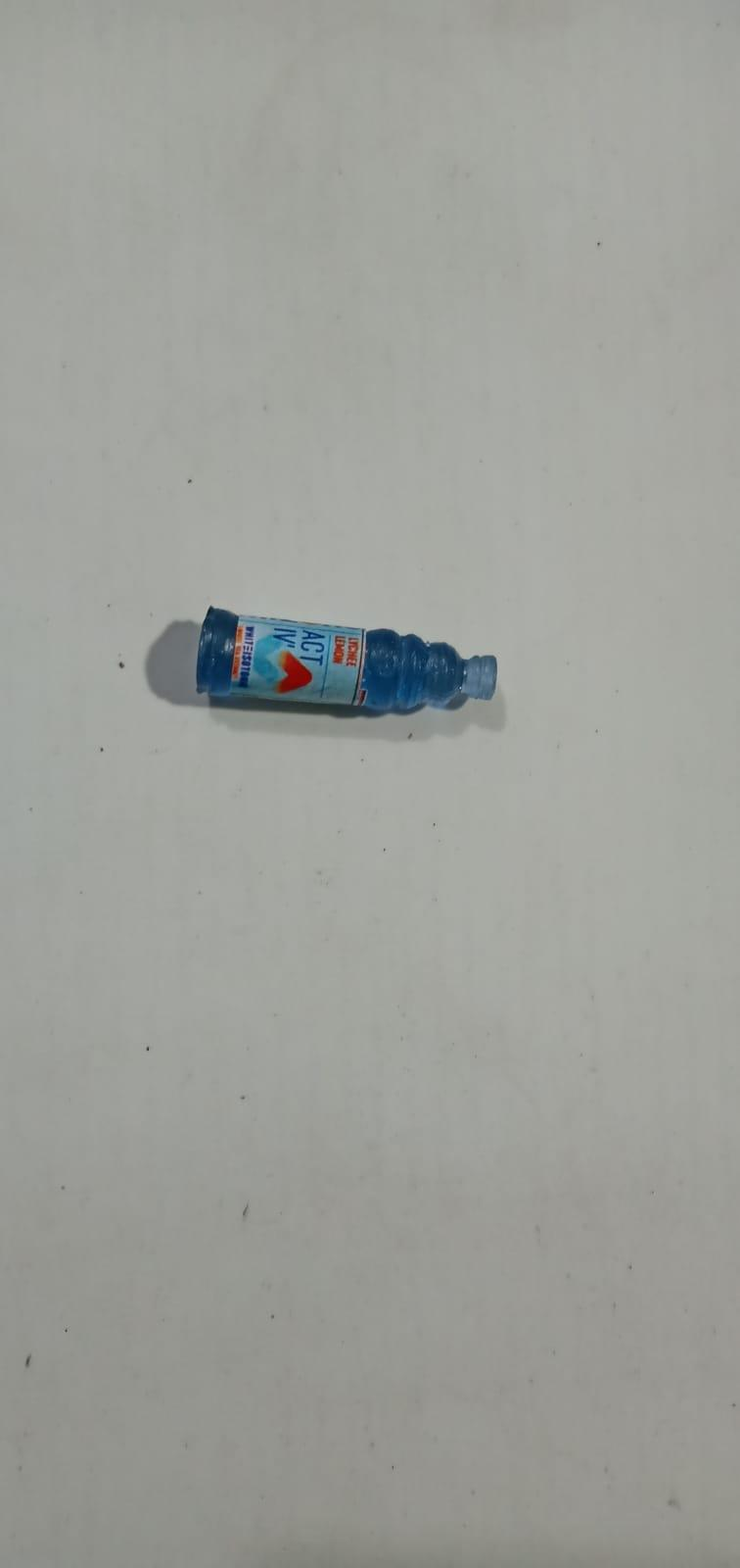Plastik: (194, 604, 500, 712)
